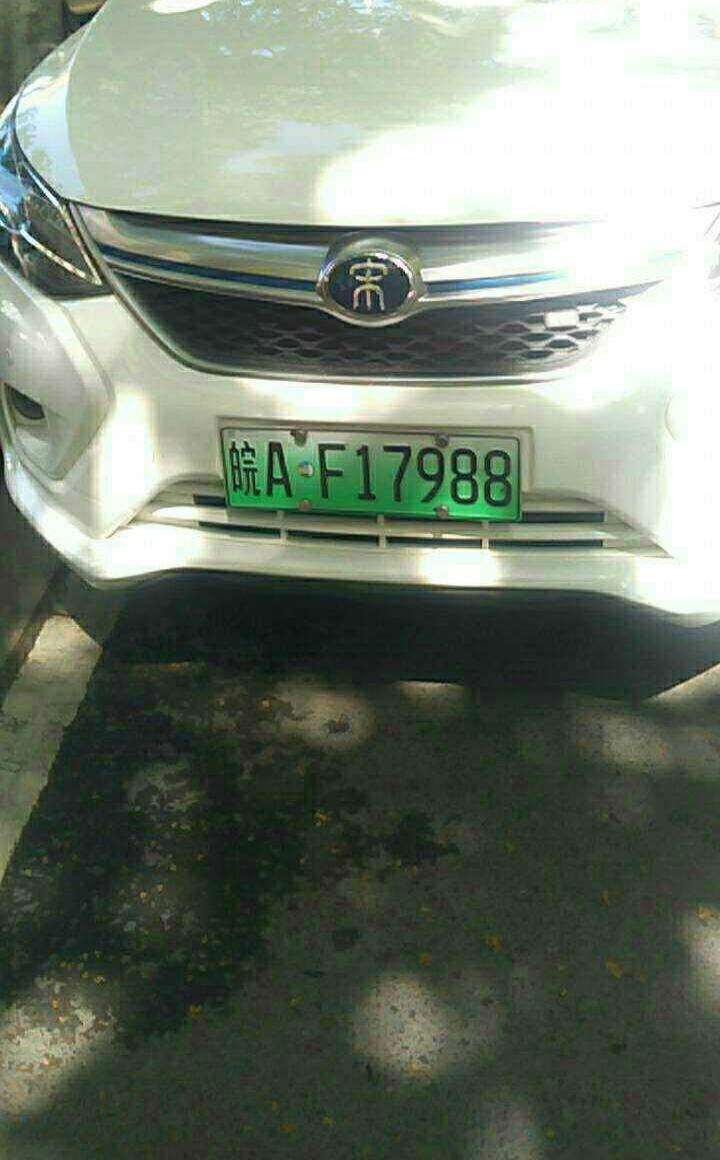car_id: (221, 425, 518, 519)
